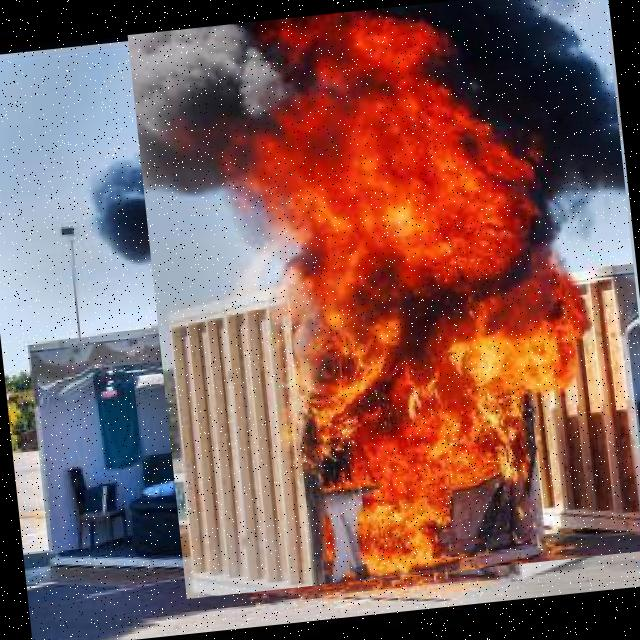fire: (127, 0, 640, 598)
